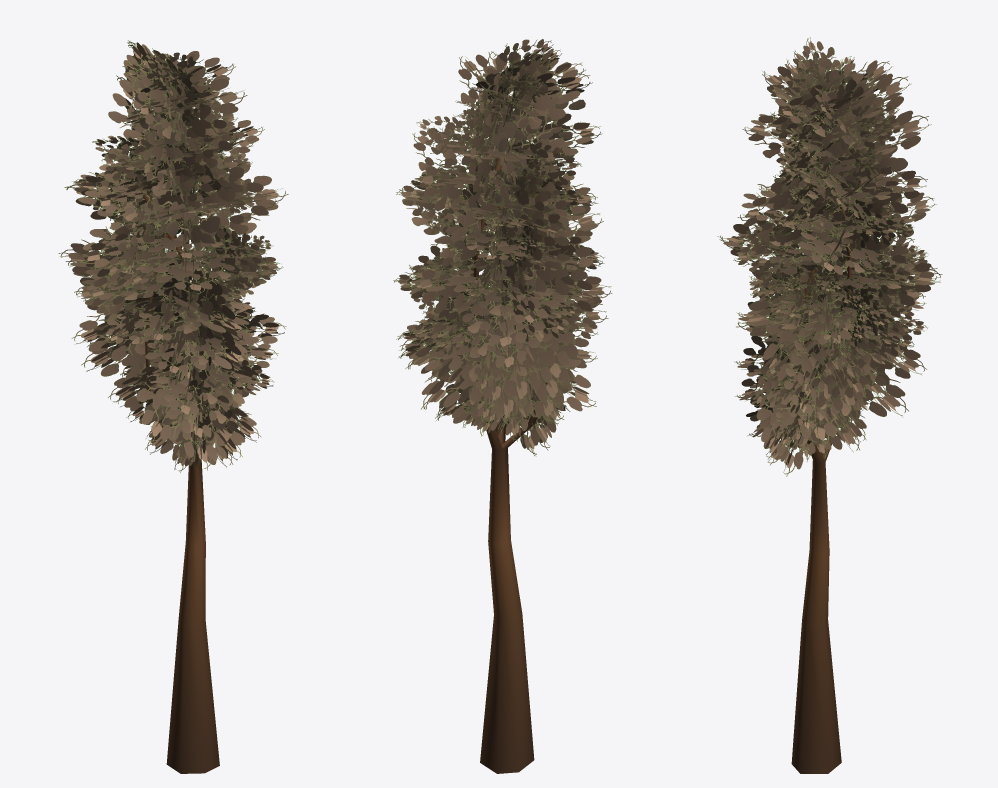
File: Tree_2E.fbx
3 views of the same model, side by side, from view 1: azimuth 30°, elevation 25°; view 2: azimuth 150°, elevation 25°; view 3: azimuth 270°, elevation 25° (orthographic). The views are drawn at different scales.
Visible parts, largest first — view 1: Tree_2E; view 2: Tree_2E; view 3: Tree_2E.
Boxes of the visible parts, box(x1,y1,x2,y2) form: Tree_2E: box(58, 40, 288, 773); Tree_2E: box(393, 39, 612, 773); Tree_2E: box(717, 37, 942, 773).
Size of the model in its own units: 234 by 586 by 224.
